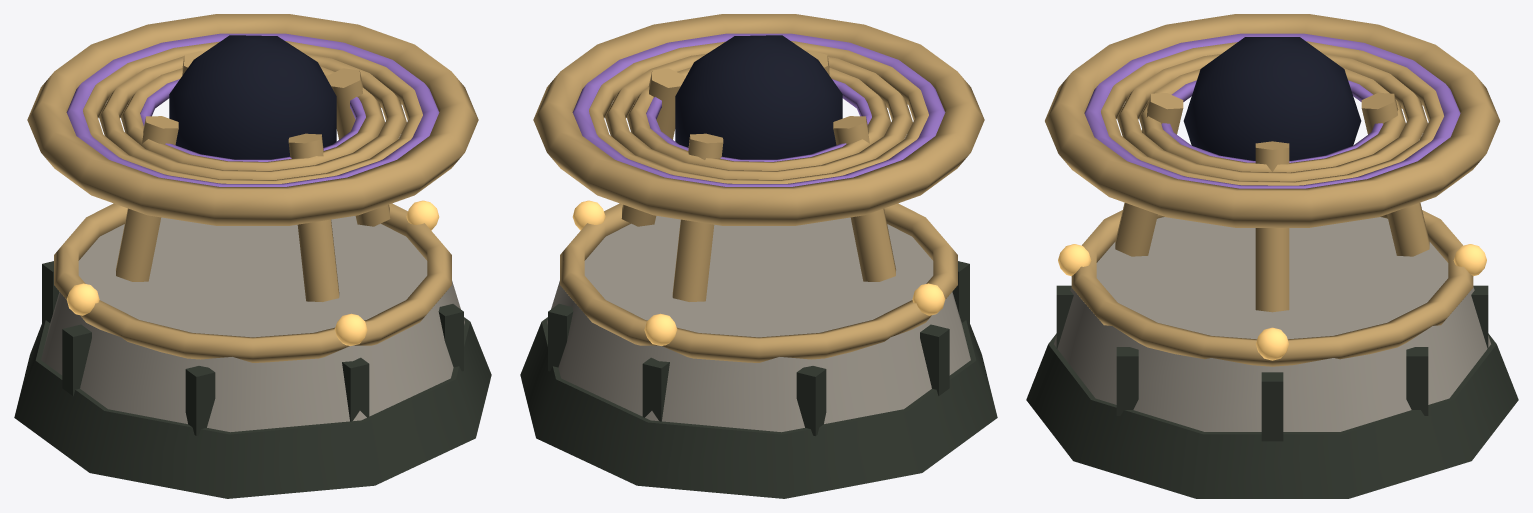
Rendered from tower_gravity_gravityCore_ultimate.glb.
3 renders of one model, left to right at view 1: azimuth 30°, elevation 25°; view 2: azimuth 150°, elevation 25°; view 3: azimuth 270°, elevation 25°, orthographic.
Visible parts, largest first — view 1: stone_1, foot_0, event_horizon_24, black_hole_15, rim_2, orbit_22, event_light_25, orbit_23, orbit_21, claw_18, claw_19, claw_17 (+9 smaller); view 2: stone_1, foot_0, event_horizon_24, black_hole_15, rim_2, orbit_22, event_light_25, orbit_23, orbit_21, claw_16, claw_19, claw_17 (+9 smaller); view 3: stone_1, foot_0, event_horizon_24, black_hole_15, rim_2, orbit_22, event_light_25, orbit_23, orbit_21, claw_17, claw_18, claw_16 (+9 smaller).
Part boxes in pixels (bbox=[...]): stone_1: bbox=[41, 216, 464, 432]; foot_0: bbox=[14, 317, 491, 498]; event_horizon_24: bbox=[27, 14, 478, 225]; black_hole_15: bbox=[169, 35, 336, 159]; rim_2: bbox=[54, 203, 451, 362]; orbit_22: bbox=[99, 54, 406, 179]; event_light_25: bbox=[66, 33, 439, 186]; orbit_23: bbox=[83, 41, 422, 183]; orbit_21: bbox=[120, 66, 384, 170]; claw_18: bbox=[288, 133, 339, 301]; claw_19: bbox=[116, 116, 178, 281]; claw_17: bbox=[327, 68, 390, 226]; stone_1: bbox=[547, 216, 970, 432]; foot_0: bbox=[520, 317, 997, 498]; event_horizon_24: bbox=[533, 14, 984, 225]; black_hole_15: bbox=[675, 35, 842, 159]; rim_2: bbox=[560, 203, 957, 362]; orbit_22: bbox=[605, 53, 912, 179]; event_light_25: bbox=[572, 33, 945, 186]; orbit_23: bbox=[589, 41, 928, 183]; orbit_21: bbox=[626, 67, 890, 170]; claw_16: bbox=[672, 133, 723, 301]; claw_19: bbox=[833, 116, 895, 281]; claw_17: bbox=[621, 68, 684, 226]; stone_1: bbox=[1054, 217, 1490, 431]; foot_0: bbox=[1026, 333, 1518, 498]; event_horizon_24: bbox=[1045, 14, 1499, 227]; black_hole_15: bbox=[1183, 37, 1361, 160]; rim_2: bbox=[1071, 210, 1473, 366]; orbit_22: bbox=[1117, 54, 1427, 181]; event_light_25: bbox=[1084, 33, 1460, 188]; orbit_23: bbox=[1101, 41, 1443, 185]; orbit_21: bbox=[1139, 68, 1405, 172]; claw_17: bbox=[1255, 141, 1289, 312]; claw_18: bbox=[1115, 93, 1183, 256]; claw_16: bbox=[1361, 93, 1429, 256].
Size of the model in its own units: 0.5326 by 0.451 by 0.56.
